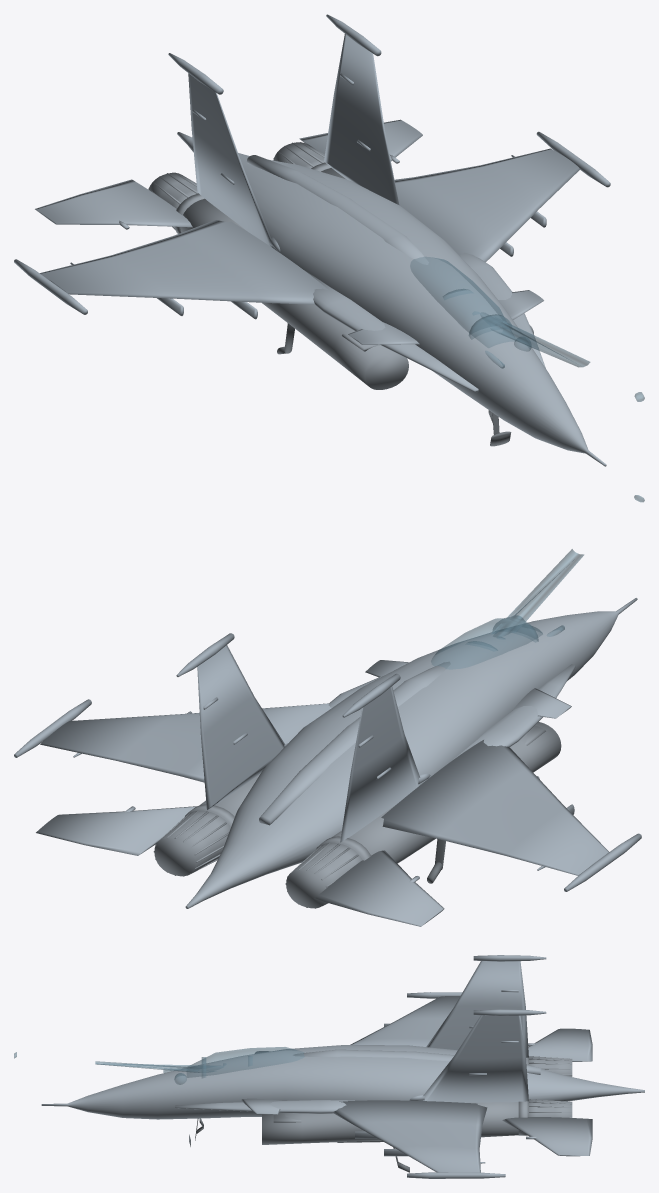
The model's file is vajra_aircraft_hd.glb.
3 renders of one model, top to bottom at view 1: azimuth 30°, elevation 25°; view 2: azimuth 150°, elevation 25°; view 3: azimuth 270°, elevation 25°, orthographic. The views are drawn at different scales.
Parts seen in each view (by area): view 1: Fuselage, Wing_Port, Wing_Starboard, Vertical_Stab_Starboard, Canards_Stabilators, Engine_Port, Vertical_Stab_Port, Cockpit_Avionics, Engine_Starboard, Landing_Gear; view 2: Fuselage, Wing_Port, Canards_Stabilators, Wing_Starboard, Vertical_Stab_Starboard, Vertical_Stab_Port, Engine_Port, Cockpit_Avionics, Engine_Starboard; view 3: Fuselage, Wing_Starboard, Vertical_Stab_Starboard, Engine_Starboard, Vertical_Stab_Port, Canards_Stabilators, Cockpit_Avionics, Wing_Port, Engine_Port.
Part boxes in pixels (x1=…): Fuselage: x1=177, y1=132, x2=606, y2=466; Wing_Port: x1=14, y1=220, x2=328, y2=319; Wing_Starboard: x1=394, y1=131, x2=610, y2=262; Vertical_Stab_Starboard: x1=324, y1=14, x2=399, y2=204; Canards_Stabilators: x1=35, y1=119, x2=543, y2=344; Engine_Port: x1=148, y1=172, x2=408, y2=389; Vertical_Stab_Port: x1=168, y1=53, x2=280, y2=251; Cockpit_Avionics: x1=410, y1=257, x2=644, y2=401; Engine_Starboard: x1=273, y1=142, x2=534, y2=335; Landing_Gear: x1=277, y1=323, x2=511, y2=446; Fuselage: x1=185, y1=598, x2=637, y2=908; Wing_Port: x1=381, y1=740, x2=641, y2=891; Canards_Stabilators: x1=36, y1=660, x2=571, y2=926; Wing_Starboard: x1=14, y1=699, x2=331, y2=782; Vertical_Stab_Starboard: x1=176, y1=633, x2=288, y2=809; Vertical_Stab_Port: x1=340, y1=673, x2=430, y2=842; Engine_Port: x1=285, y1=722, x2=561, y2=908; Cockpit_Avionics: x1=431, y1=495, x2=644, y2=669; Engine_Starboard: x1=153, y1=774, x2=259, y2=876; Fuselage: x1=41, y1=1045, x2=644, y2=1119; Wing_Starboard: x1=332, y1=1100, x2=505, y2=1178; Vertical_Stab_Starboard: x1=409, y1=1009, x2=546, y2=1102; Engine_Starboard: x1=262, y1=1099, x2=572, y2=1144; Vertical_Stab_Port: x1=426, y1=955, x2=546, y2=1057; Canards_Stabilators: x1=240, y1=1028, x2=592, y2=1156; Cockpit_Avionics: x1=14, y1=1047, x2=304, y2=1084; Wing_Port: x1=350, y1=992, x2=462, y2=1046; Engine_Port: x1=526, y1=1056, x2=572, y2=1076.
Bounding box in the file's own units: 14.92 × 6.37 × 21.75.
